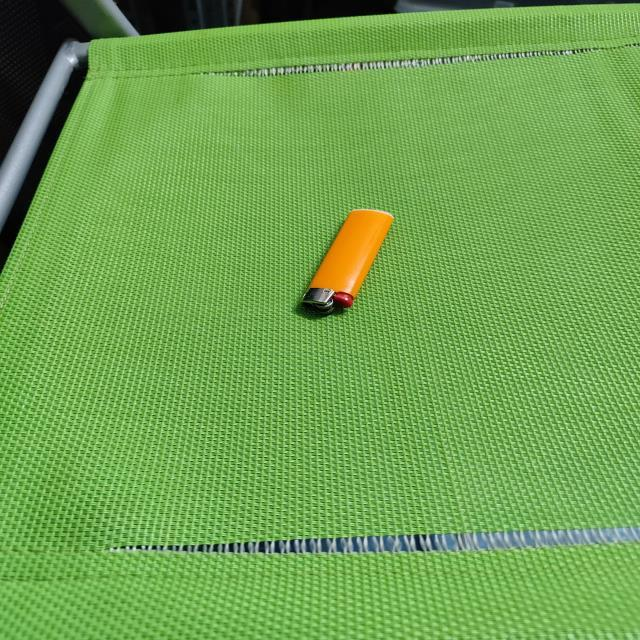lighter: (302, 210, 392, 312)
